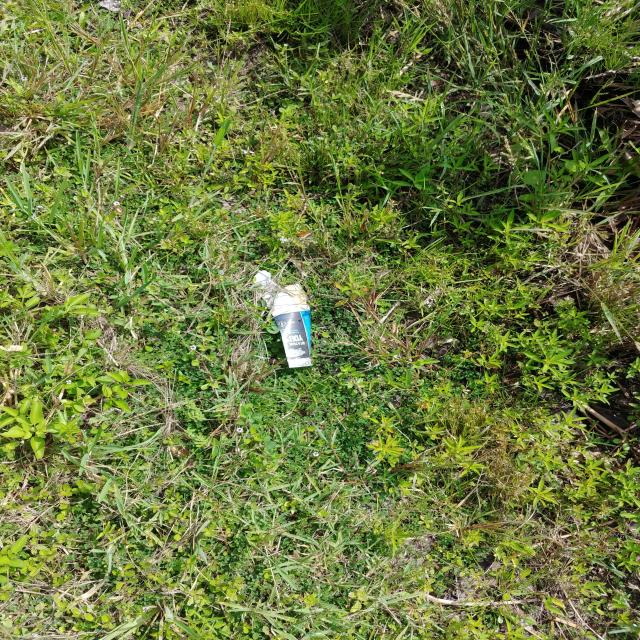litter: (250, 275, 323, 374)
